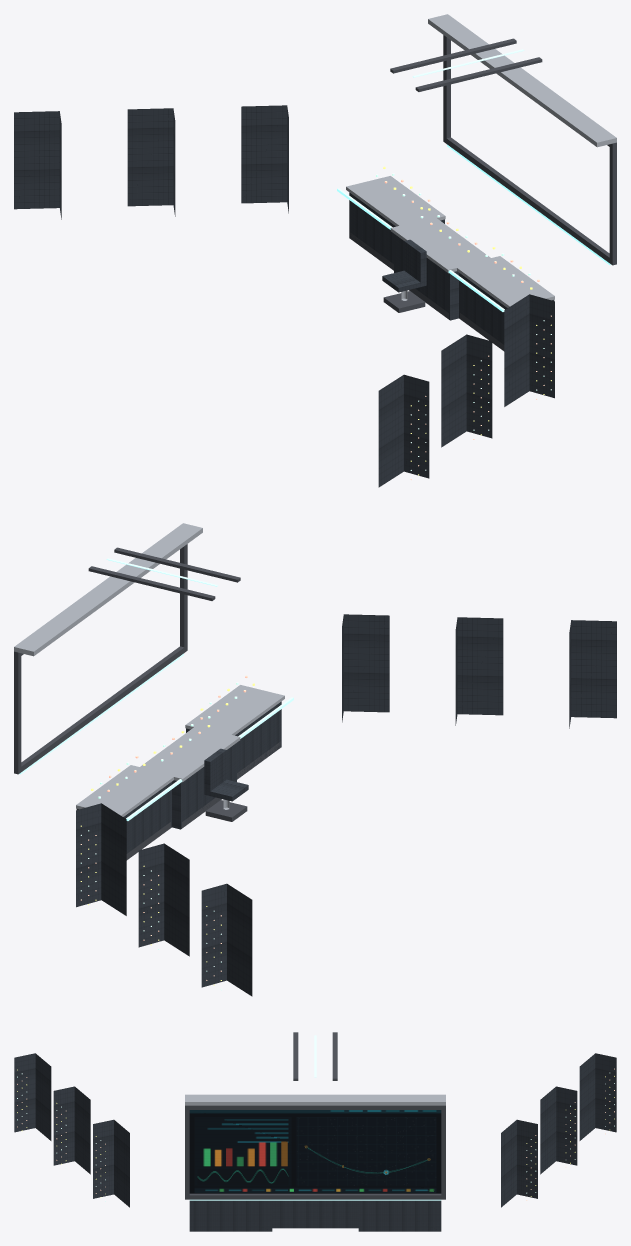
Rendered from bridge_console.glb.
3 views of the same model, one above another, from view 1: azimuth 30°, elevation 25°; view 2: azimuth 150°, elevation 25°; view 3: azimuth 270°, elevation 25° (orthographic). The views are drawn at different scales.
Visible parts, largest first — view 1: Bridge_Body, Bridge_Trim, Bridge_Dark, Glow_Strips; view 2: Bridge_Body, Bridge_Trim, Bridge_Dark, Glow_Strips; view 3: Bridge_Body, Big_Display, Bridge_Dark, Bridge_Trim, Glow_Strips.
Part boxes in pixels (x1=…): Bridge_Body: x1=14, y1=105, x2=554, y2=487; Bridge_Trim: x1=346, y1=14, x2=616, y2=307; Bridge_Dark: x1=350, y1=35, x2=616, y2=351; Glow_Strips: x1=337, y1=49, x2=611, y2=311; Bridge_Body: x1=76, y1=614, x2=616, y2=996; Bridge_Trim: x1=14, y1=523, x2=284, y2=816; Bridge_Dark: x1=14, y1=544, x2=280, y2=860; Glow_Strips: x1=19, y1=558, x2=293, y2=820; Bridge_Body: x1=14, y1=1053, x2=616, y2=1231; Big_Display: x1=189, y1=1110, x2=441, y2=1193; Bridge_Dark: x1=185, y1=1032, x2=445, y2=1199; Bridge_Trim: x1=185, y1=1094, x2=445, y2=1105; Glow_Strips: x1=189, y1=1035, x2=441, y2=1200.
Size of the model in its own units: 7.6 by 4.88 by 15.34.
Materials: 9 (3 with a texture image).
